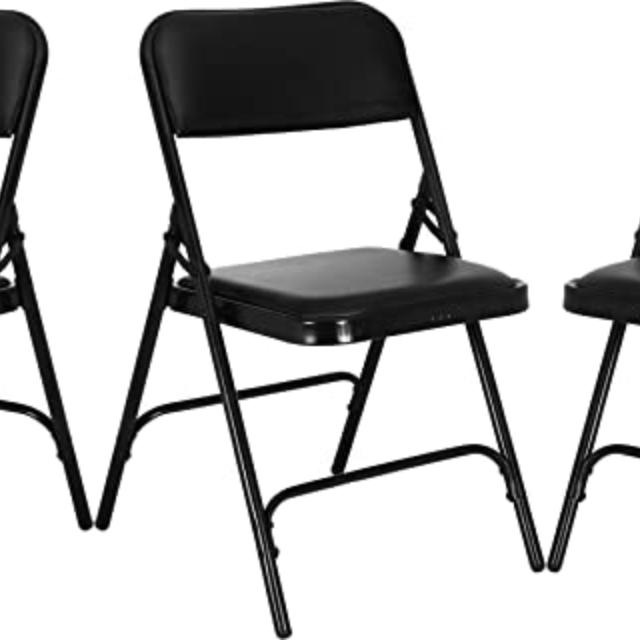obstacle: (103, 8, 544, 640), (547, 8, 640, 640), (0, 8, 84, 640)
